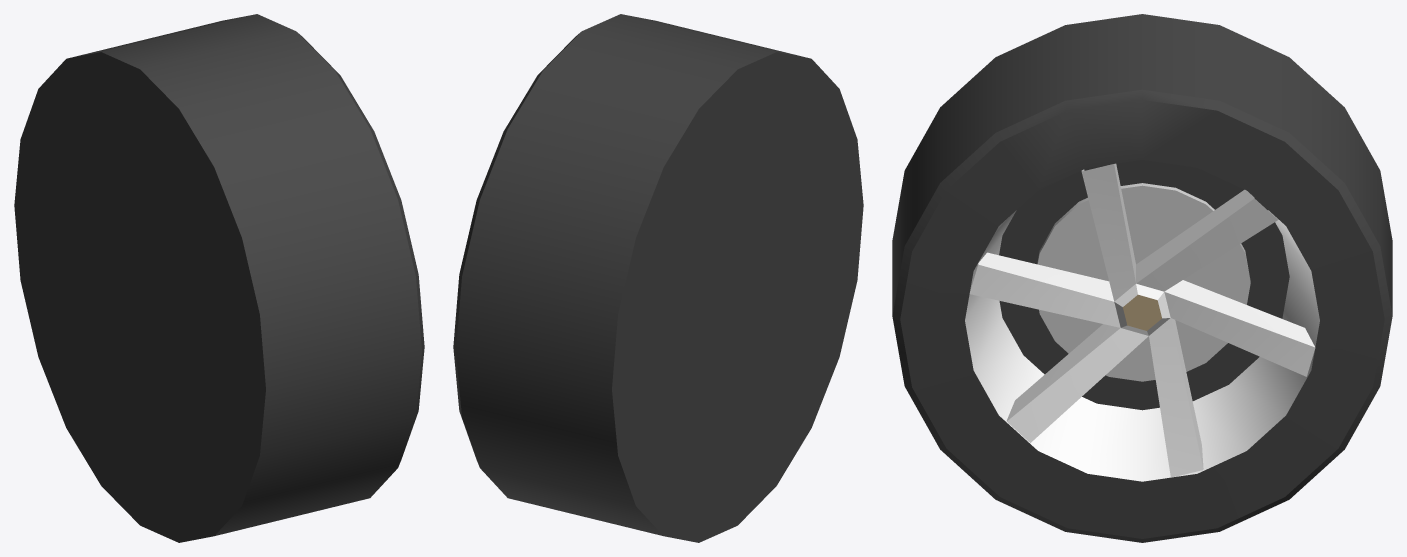
File: WheelMod_06.fbx
3 renders of one model, left to right at view 1: azimuth 30°, elevation 25°; view 2: azimuth 150°, elevation 25°; view 3: azimuth 270°, elevation 25°, orthographic.
Visible parts, largest first — view 1: Wheel; view 2: Wheel; view 3: Wheel.
Boxes of the visible parts, box(x1,y1,x2,y2) form: Wheel: box(14, 14, 424, 542); Wheel: box(453, 14, 863, 542); Wheel: box(892, 14, 1392, 542).
Size of the model in its own units: 27.7 by 73.06 by 73.06.
